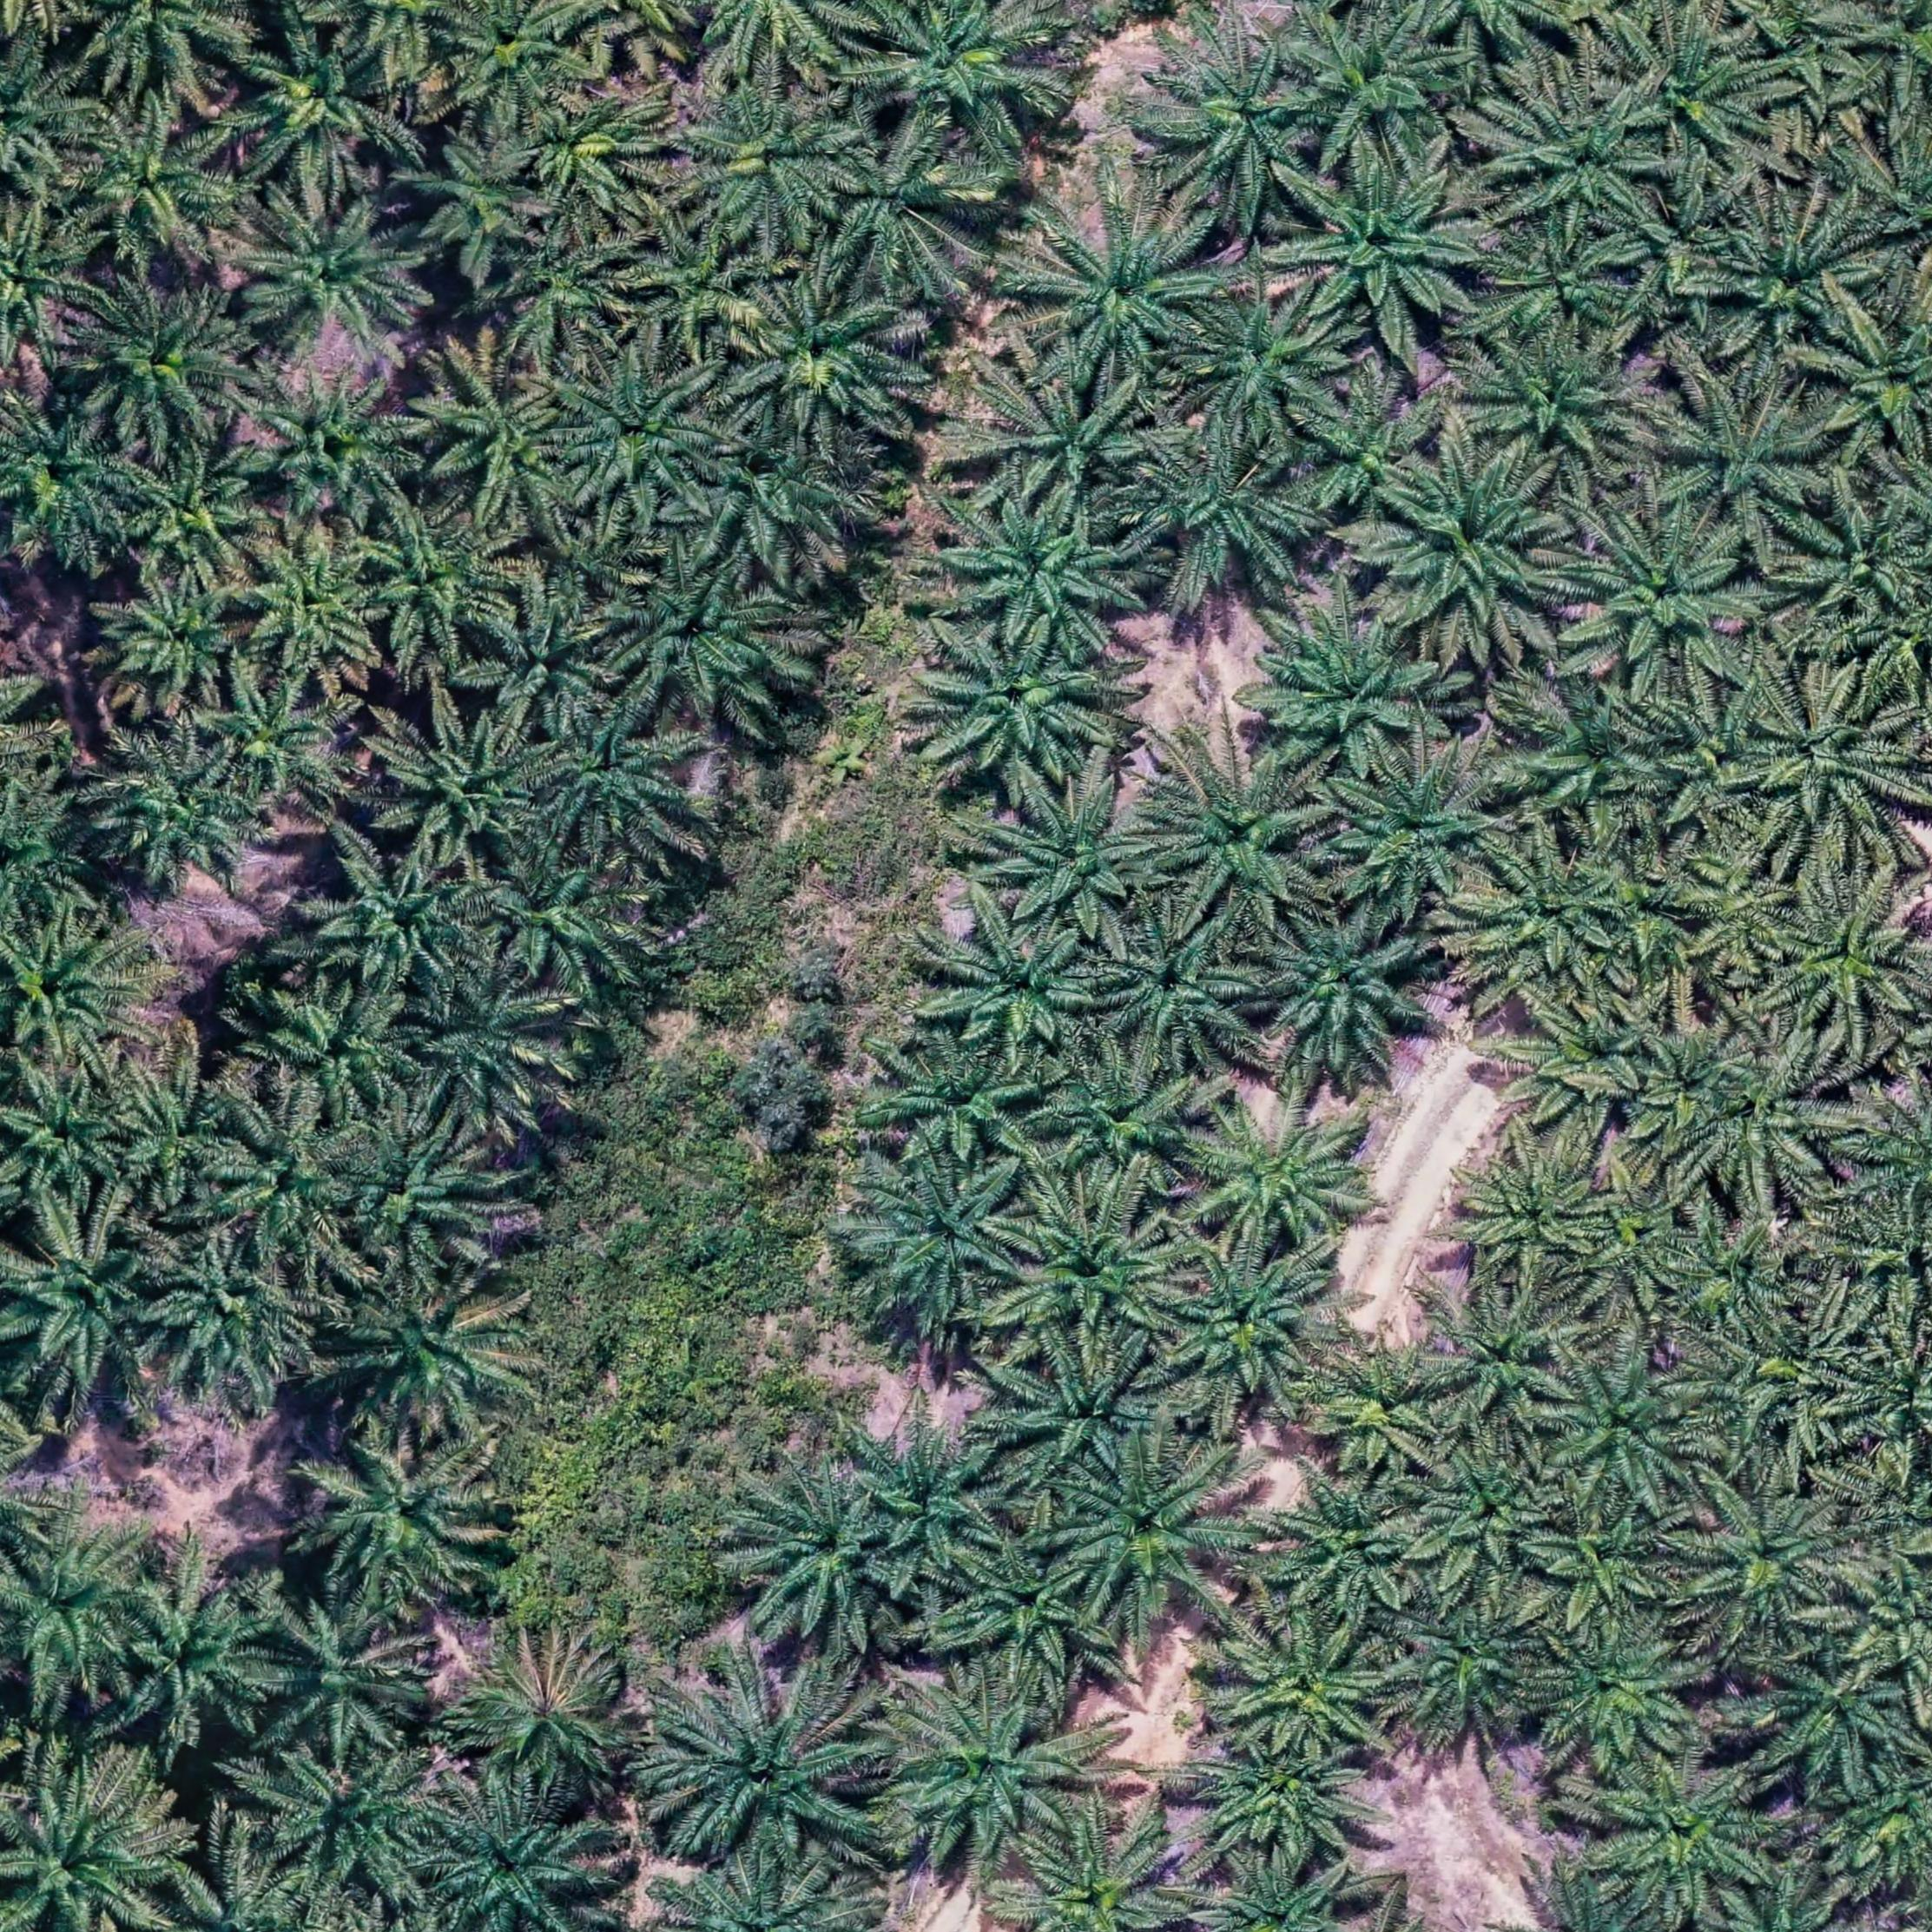palmtree: (655, 1675, 876, 1874), (1373, 448, 1576, 648), (1017, 193, 1224, 382), (886, 1686, 1092, 1874), (600, 550, 809, 731), (1060, 1438, 1256, 1628), (1569, 501, 1769, 686), (1624, 1017, 1817, 1200), (237, 189, 433, 368), (306, 1433, 504, 1610), (110, 1568, 295, 1753), (669, 76, 867, 249), (1150, 748, 1338, 931), (1295, 156, 1486, 334), (948, 488, 1146, 658), (5, 1208, 180, 1398), (1152, 37, 1334, 218), (1254, 901, 1442, 1074), (329, 1272, 522, 1440), (257, 1739, 453, 1904), (1679, 1320, 1865, 1493), (241, 361, 430, 531), (1592, 1757, 1783, 1925), (62, 101, 246, 274), (140, 1228, 326, 1399), (1267, 614, 1454, 784), (1325, 750, 1513, 920), (736, 274, 925, 442), (306, 840, 497, 1007), (929, 628, 1123, 791), (230, 14, 409, 191), (1123, 439, 1318, 600), (69, 276, 255, 444), (1737, 674, 1918, 846), (862, 0, 1065, 150), (1468, 333, 1660, 492), (375, 701, 556, 869), (685, 432, 883, 584), (740, 1481, 913, 1651), (1189, 1092, 1373, 1251), (1467, 839, 1642, 1005), (554, 350, 731, 515), (860, 1161, 1039, 1323), (1005, 1194, 1189, 1352), (816, 129, 984, 301), (257, 1598, 430, 1764), (1090, 902, 1265, 1067), (1166, 1242, 1343, 1405), (1656, 379, 1835, 540), (419, 354, 586, 525), (334, 1106, 504, 1272), (356, 499, 529, 662), (1493, 83, 1674, 239), (407, 966, 577, 1131), (455, 1642, 635, 1796), (1189, 1730, 1382, 1874), (1288, 9, 1461, 168), (4, 1520, 161, 1695), (94, 736, 271, 892), (5, 1776, 182, 1932), (1527, 1624, 1711, 1773), (1711, 205, 1882, 364), (1686, 1486, 1856, 1645), (212, 1099, 372, 1269), (993, 782, 1168, 936), (1219, 1614, 1398, 1760), (428, 1792, 616, 1932), (1764, 881, 1928, 1040), (0, 387, 149, 563), (534, 701, 702, 855), (1511, 676, 1681, 828), (1647, 672, 1796, 846), (1185, 285, 1352, 439), (1599, 182, 1764, 334), (257, 980, 430, 1123), (117, 439, 278, 591), (1387, 1592, 1553, 1739), (1545, 1353, 1706, 1504), (998, 1346, 1168, 1488), (1270, 1479, 1430, 1629), (985, 372, 1159, 510), (939, 916, 1109, 1056), (952, 1536, 1108, 1688), (235, 533, 389, 685), (0, 913, 147, 1070), (1408, 1445, 1568, 1591), (403, 126, 554, 278), (860, 1424, 1014, 1573), (479, 849, 640, 991), (103, 573, 265, 709), (1042, 1049, 1205, 1185), (1753, 1651, 1913, 1787), (1460, 1139, 1612, 1281), (628, 218, 780, 359), (437, 0, 603, 129), (1008, 1821, 1200, 1932), (472, 594, 625, 734), (1511, 994, 1663, 1132), (515, 88, 665, 226), (1654, 18, 1780, 179), (0, 1069, 136, 1215), (115, 1058, 258, 1196), (1304, 380, 1447, 517), (214, 672, 359, 807), (1785, 490, 1932, 623), (885, 1042, 1042, 1164), (1433, 1292, 1578, 1422), (1819, 295, 1932, 462), (1311, 1341, 1453, 1474), (499, 228, 637, 359), (1534, 1504, 1677, 1629), (1490, 226, 1638, 347), (0, 25, 101, 202), (0, 209, 108, 373), (64, 0, 249, 96), (0, 780, 110, 927), (1667, 1212, 1796, 1336), (1675, 846, 1799, 973), (1826, 1759, 1932, 1897), (1576, 1180, 1690, 1306), (1736, 0, 1875, 101), (1851, 127, 1930, 297), (1845, 1550, 1932, 1698), (1831, 1205, 1932, 1329), (533, 511, 642, 603), (1856, 1092, 1932, 1212)
